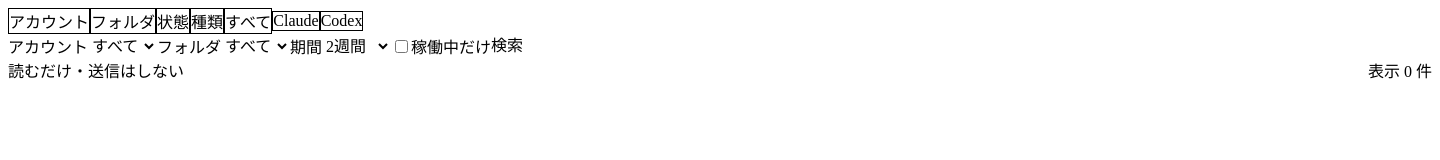
Scenario: FilterBar › 検索の debounce 保留中に外部から setFilter({ query }) が呼ばれると保留中のタイマーはキャンセルされ、古い値で上書きされない（Round 1 回帰）
Type "abc" into the search field labelled "検索" at [591, 46], box 491,37 -> 691,55
Wait 400 ms
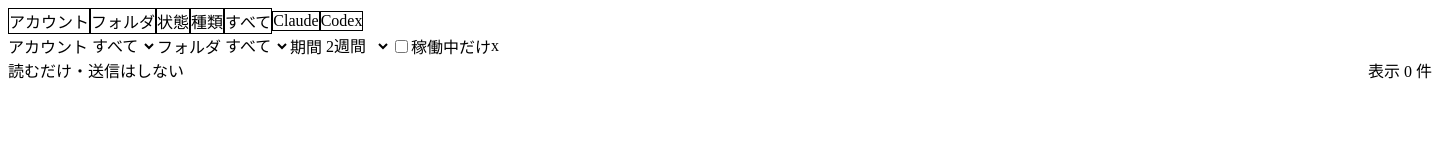
Expected: the search field named "検索" holds "x", 491,37 -> 691,55
